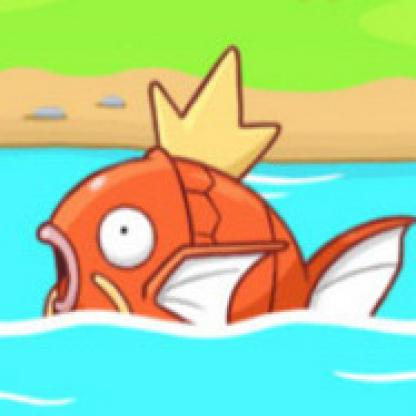Magikarp: (1, 1, 402, 409)
